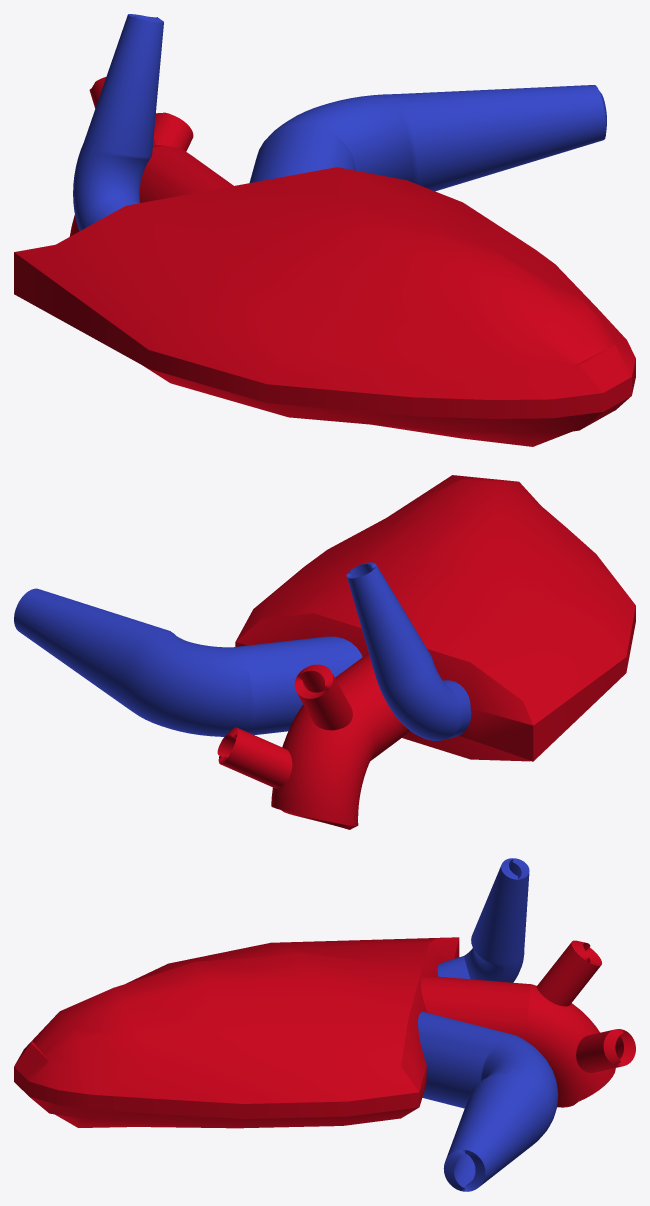
Rendered from ShittyHeart.fbx.
3 views of the same model, one above another, from view 1: azimuth 30°, elevation 25°; view 2: azimuth 150°, elevation 25°; view 3: azimuth 270°, elevation 25° (orthographic). The views are drawn at different scales.
Visible parts, largest first — view 1: Plane, Cylinder, Cylinder.004, Cylinder.001; view 2: Plane, Cylinder, Cylinder.001, Cylinder.004; view 3: Plane, Cylinder, Cylinder.001, Cylinder.004.
Part boxes in pixels (x1,y1,x2,y2): Plane: (14,167,635,446); Cylinder: (249,85,606,191); Cylinder.004: (73,14,163,231); Cylinder.001: (69,77,233,236); Plane: (235,475,635,761); Cylinder: (14,588,362,736); Cylinder.001: (217,653,410,829); Cylinder.004: (346,562,471,740); Plane: (14,937,459,1128); Cylinder: (418,1012,558,1191); Cylinder.001: (421,940,635,1107); Cylinder.004: (437,858,529,982).
Bounding box in the file's own units: 171 × 79.62 × 194.
Materials: 3 (3 with a texture image).
